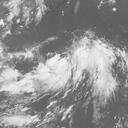cyclone: (37, 39, 115, 96)
